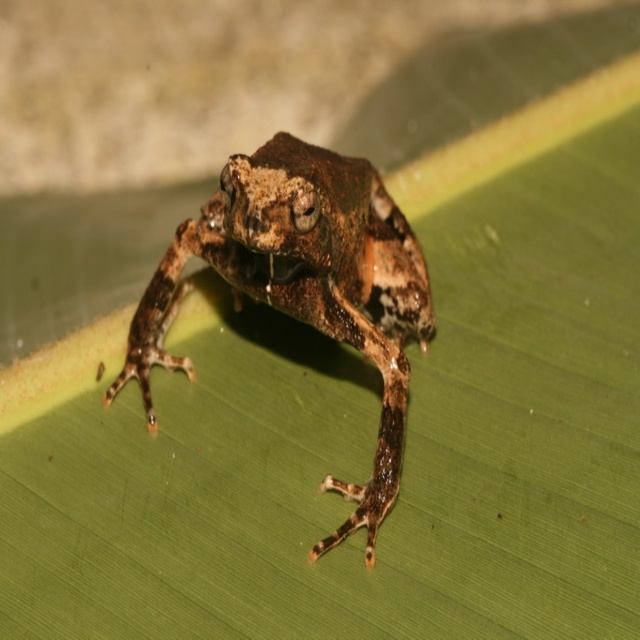Frog: (100, 121, 442, 572)
